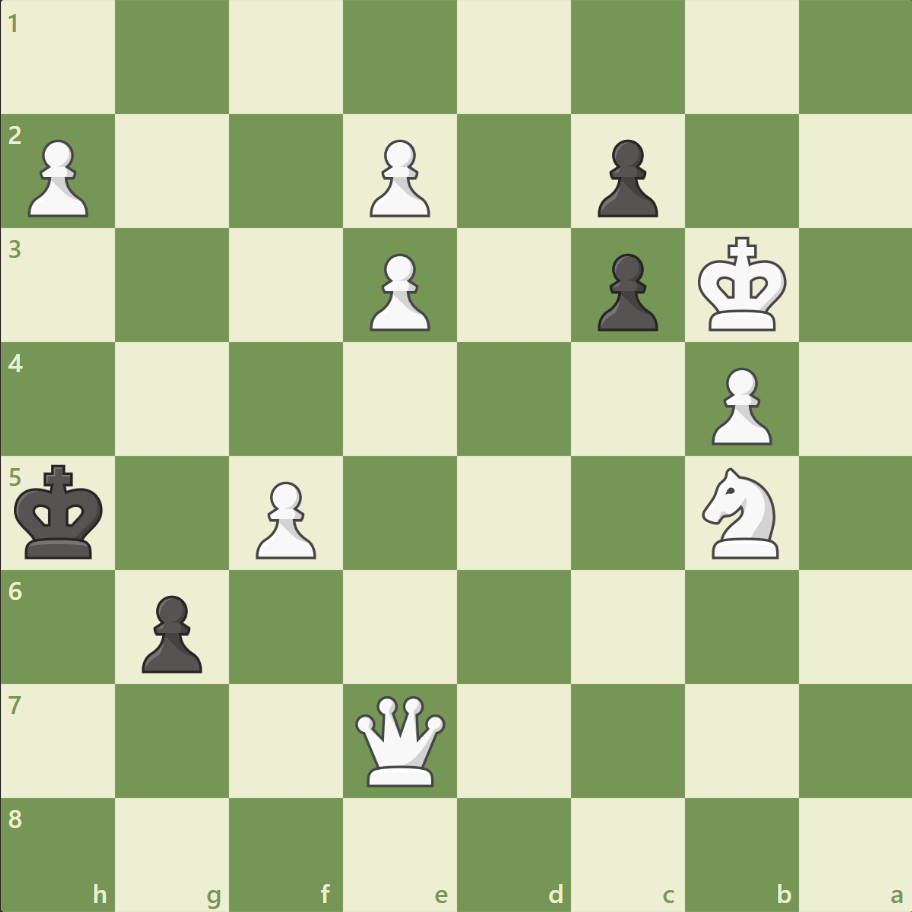K: (692, 231, 792, 339)
N: (692, 461, 789, 564)
P: (247, 473, 322, 564), (701, 359, 776, 450), (20, 132, 95, 223), (361, 246, 435, 337), (361, 132, 435, 223)
Q: (351, 690, 450, 789)
k: (11, 458, 111, 566)
p: (133, 586, 208, 677), (588, 246, 662, 337), (588, 132, 662, 223)
